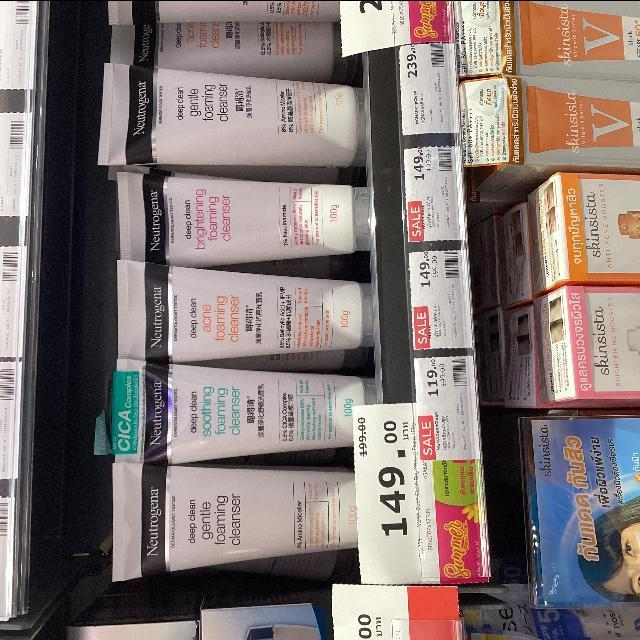Squeeze Tube: (50, 33, 409, 593), (92, 57, 365, 174), (107, 453, 373, 572), (118, 261, 376, 369), (113, 353, 365, 461), (116, 173, 372, 259)
